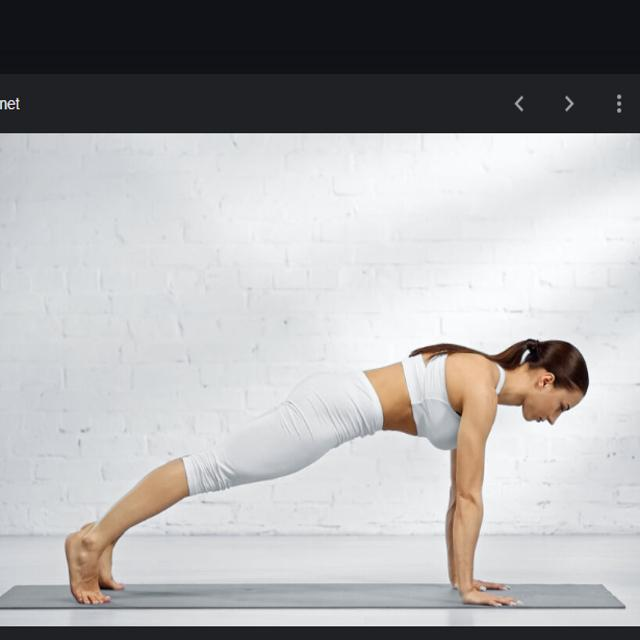Plank_Pose: (32, 331, 590, 614)
